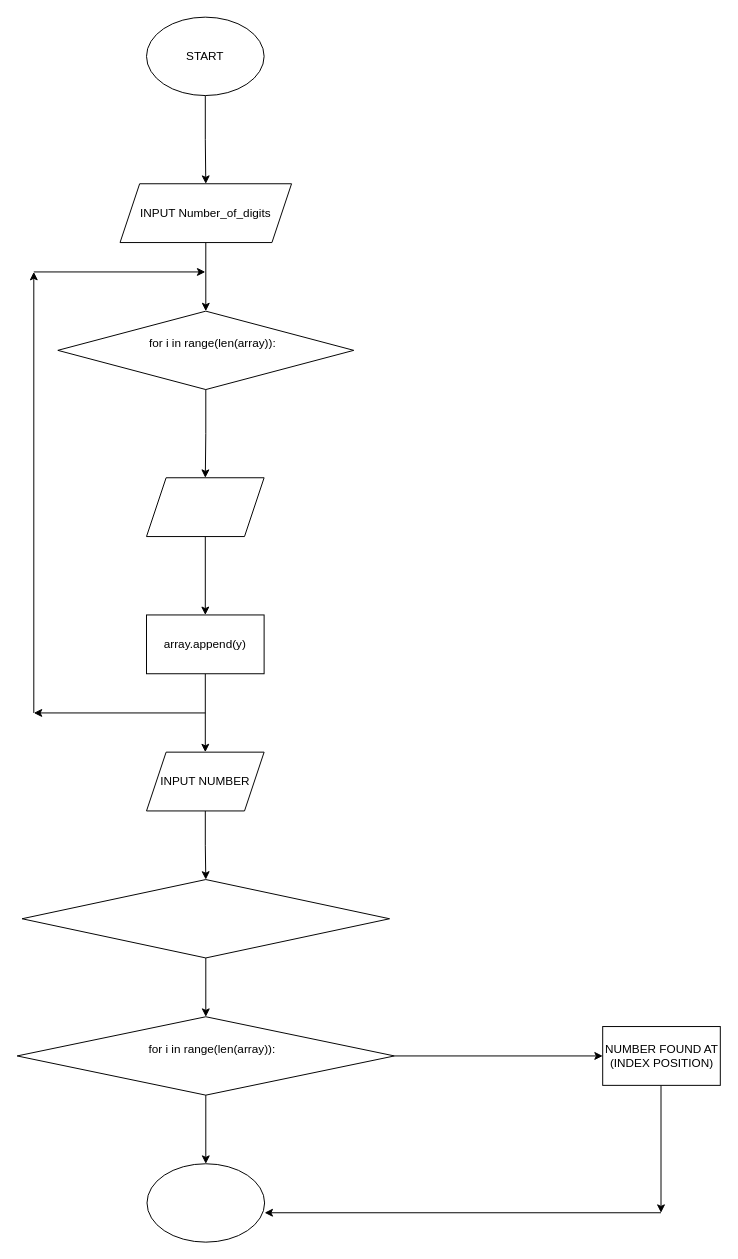
Image size: 738x1259. Some labels were removed from this diagram. The shapes that lost their labels are listed below. From the top down, each one's centre as x and y in pixels, then its label:
At pixel 205 507: "INPUT Y".
At pixel 205 918: "for i in range(1,Number_of_digit+1):".
At pixel 205 1202: "END".
